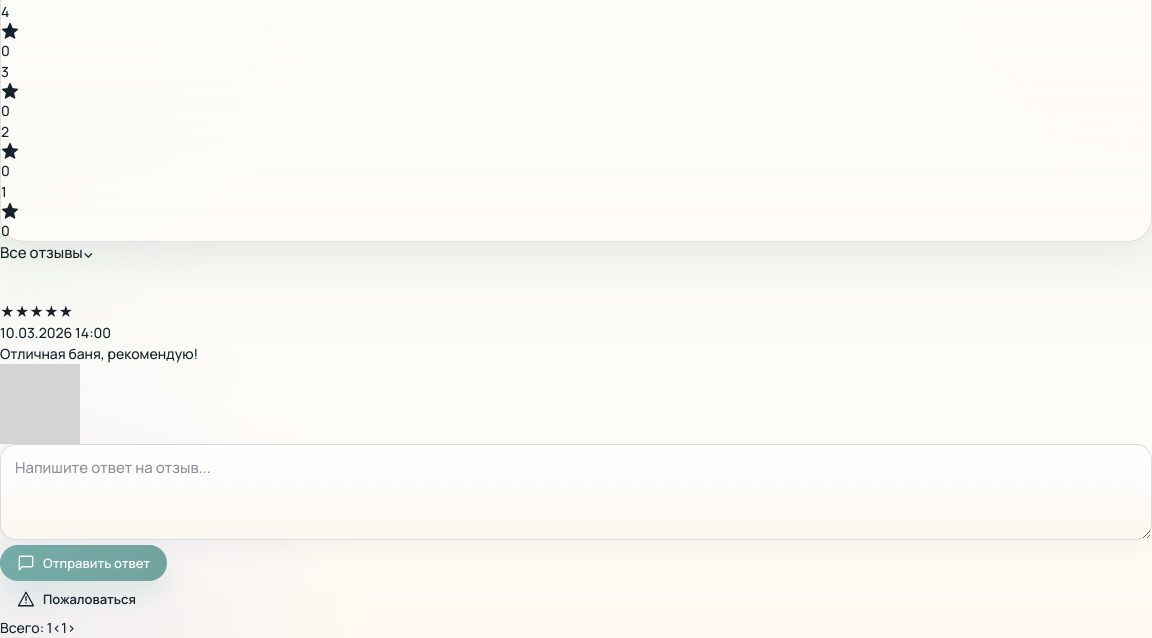
Scenario: ReviewList › opens report modal when report button clicked
The image size is (1152, 638).
(page scrolled)
Click the button "Пожаловаться". click: (76, 599)
box: [0, 581, 153, 617]
(page scrolled)
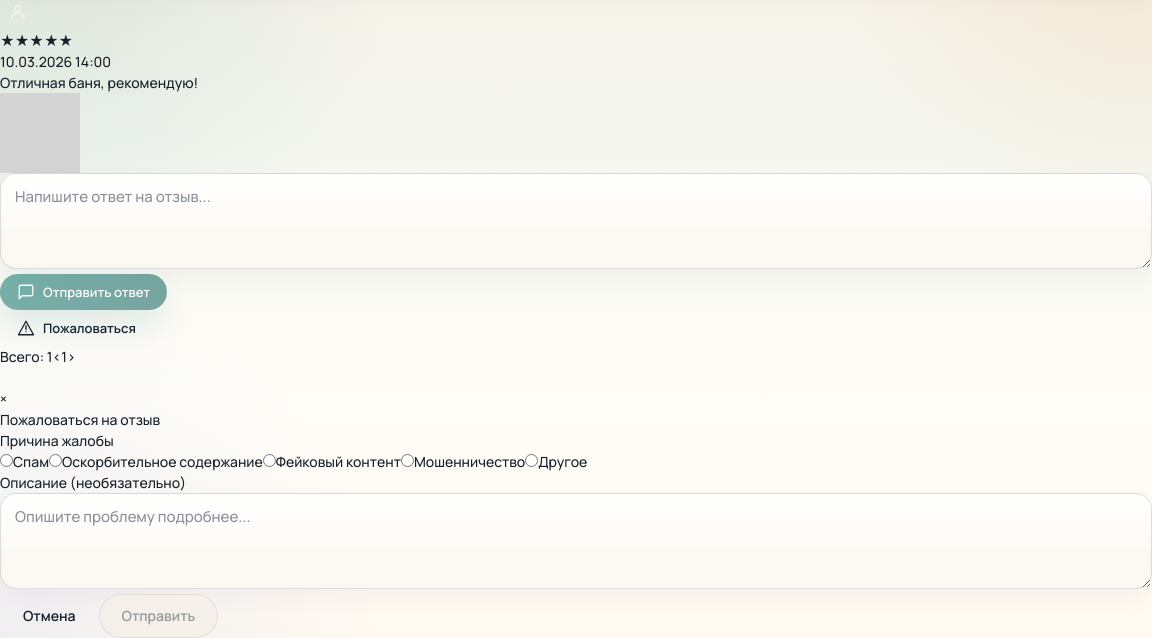
Result: the text "Пожаловаться на отзыв" is shown at [0, 410, 160, 429]
